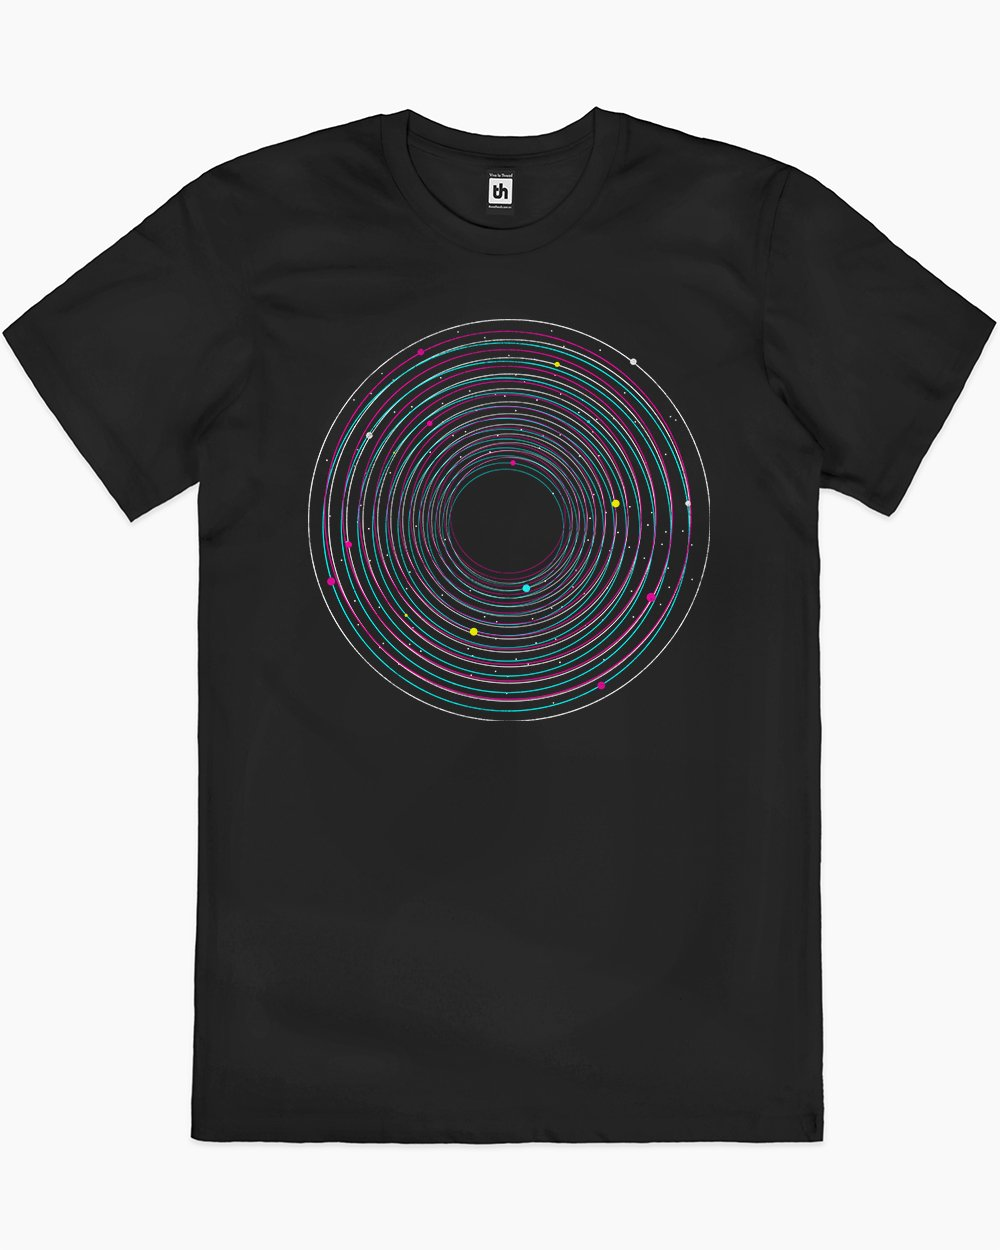design: (301, 311, 717, 730)
